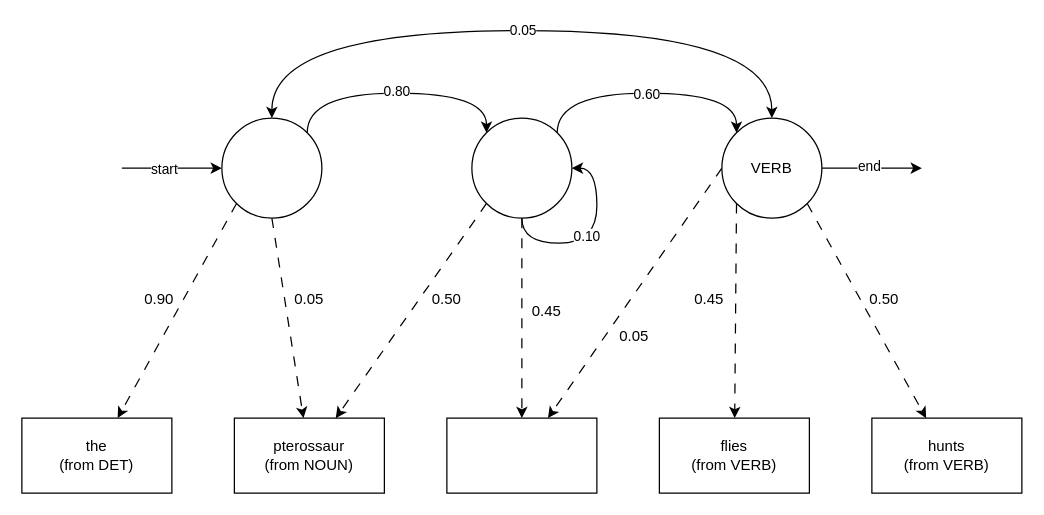
Some shapes in this 1044 by 515 pixel diagram are drawn without their labels. Each missing label, with the box of its shape:
DET: (221, 117, 322, 218)
hawk (from NOUN): (446, 417, 597, 493)
NOUN: (471, 117, 572, 218)
